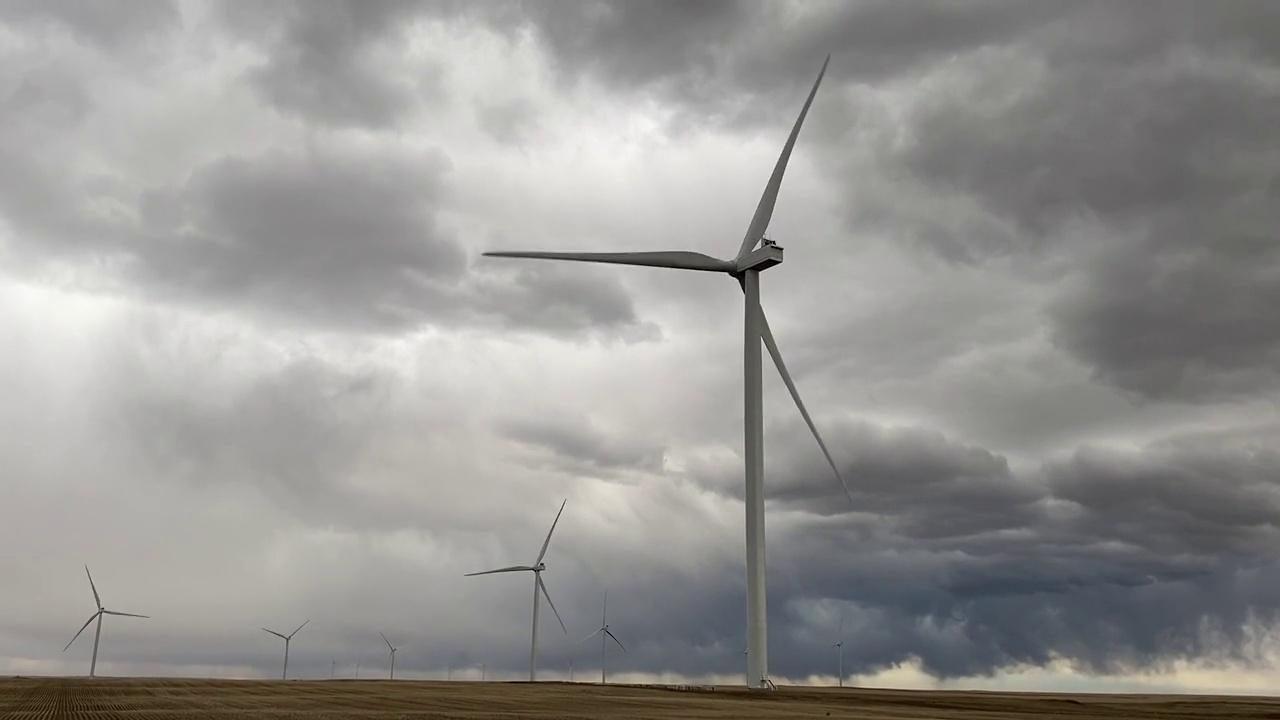turbine: (466, 41, 858, 702), (457, 468, 573, 693), (59, 553, 149, 676), (574, 580, 630, 692), (258, 611, 311, 678), (373, 621, 411, 678), (827, 616, 854, 692), (468, 655, 495, 682), (318, 649, 342, 679), (346, 653, 367, 679), (434, 657, 457, 679)
